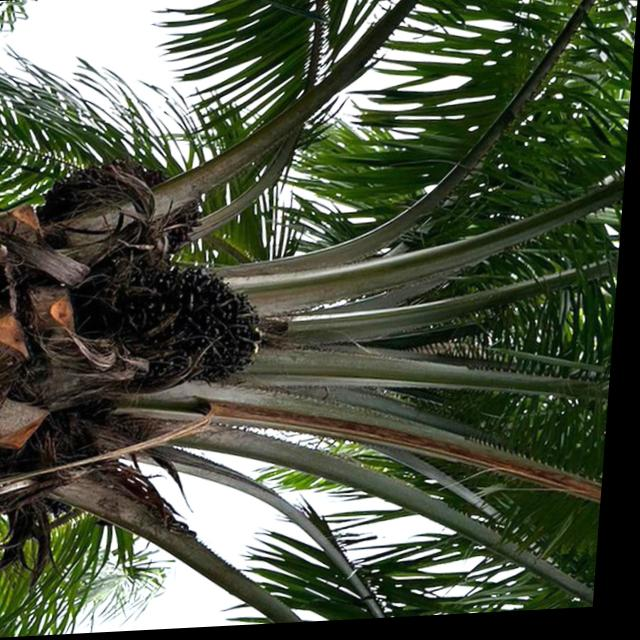unripe: (42, 162, 208, 283), (136, 262, 276, 395)
